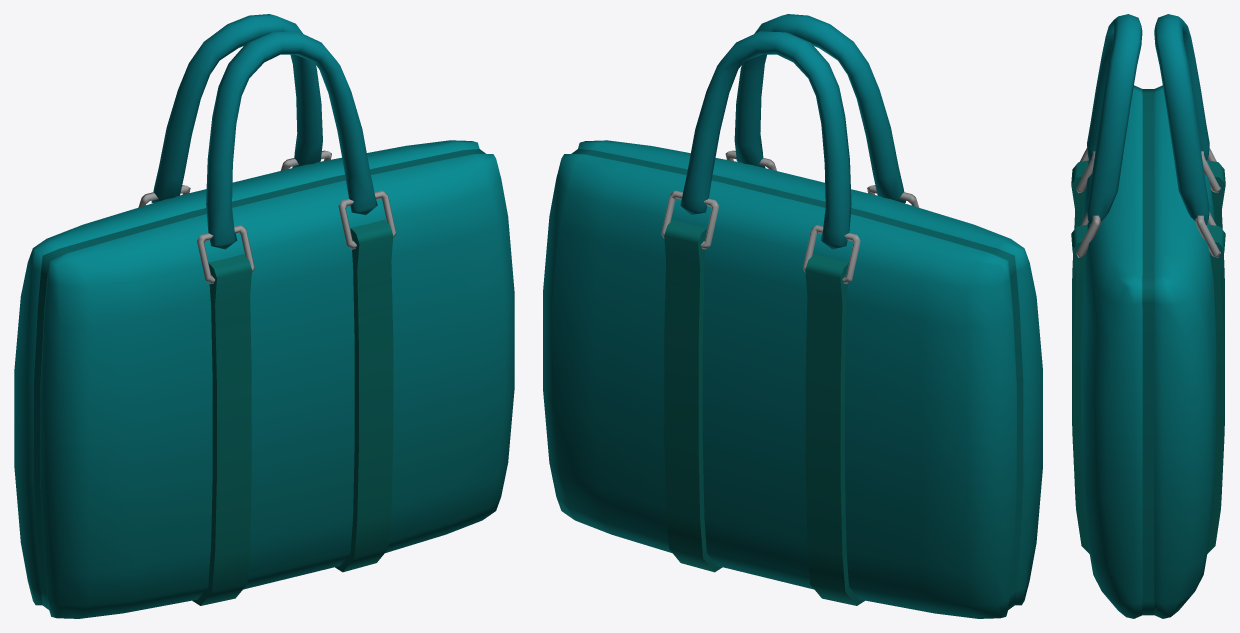
File: Purse_06.fbx
3 views of the same model, side by side, from view 1: azimuth 30°, elevation 25°; view 2: azimuth 150°, elevation 25°; view 3: azimuth 270°, elevation 25° (orthographic). The views are drawn at different scales.
Visible parts, largest first — view 1: Purse_06; view 2: Purse_06; view 3: Purse_06.
Part boxes in pixels (<box>): Purse_06: <box>14,14,514,618</box>; Purse_06: <box>543,14,1042,618</box>; Purse_06: <box>1071,14,1225,618</box>.
Size of the model in its own units: 40.85 by 12.63 by 45.95.
